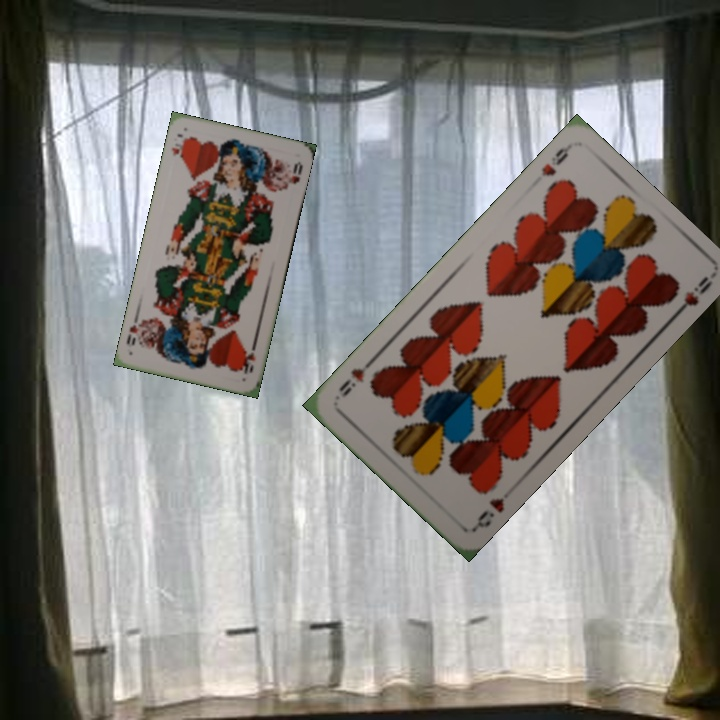H9: (470, 493, 507, 532), (537, 141, 574, 179)
HO: (240, 339, 259, 376), (168, 130, 189, 163)
